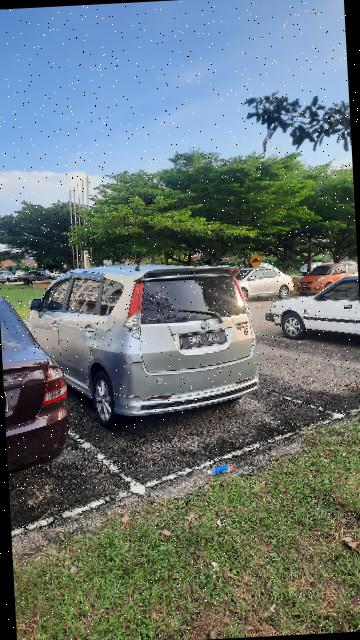License_Plate: (178, 323, 234, 352)
car: (30, 256, 266, 426), (1, 291, 76, 477), (267, 270, 360, 345)
